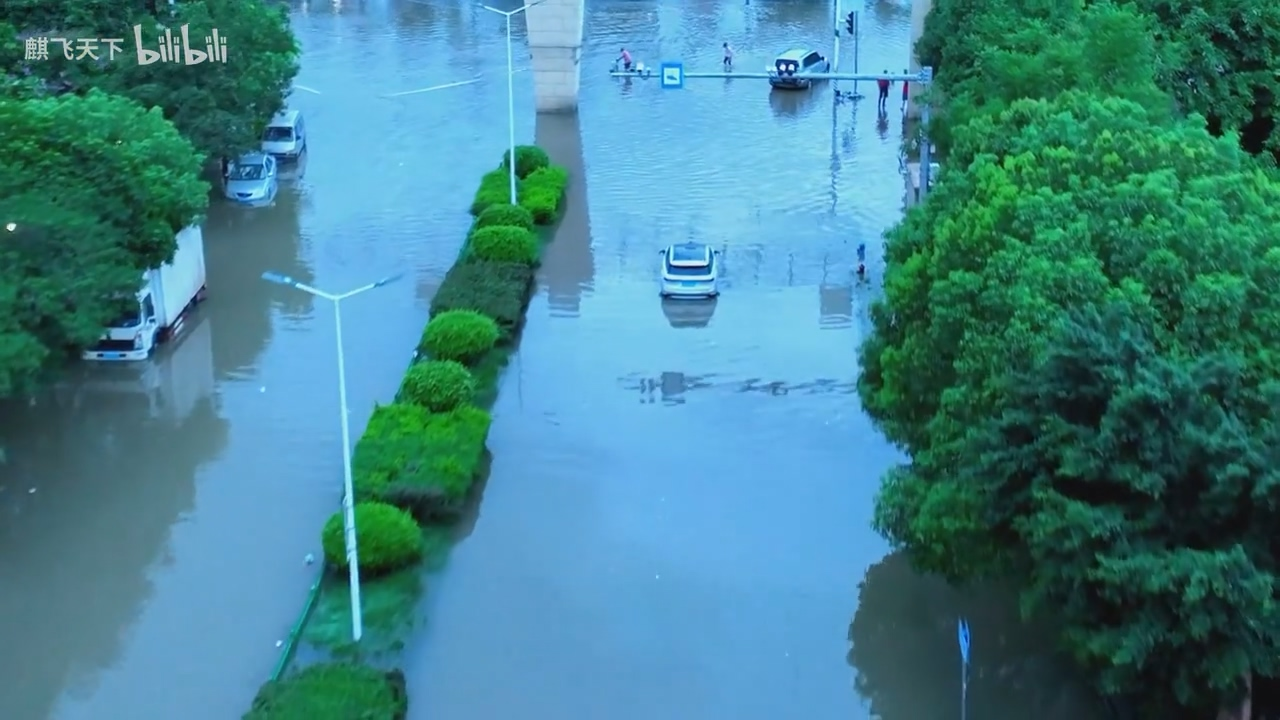puddle: (550, 88, 903, 720), (137, 112, 398, 720)
